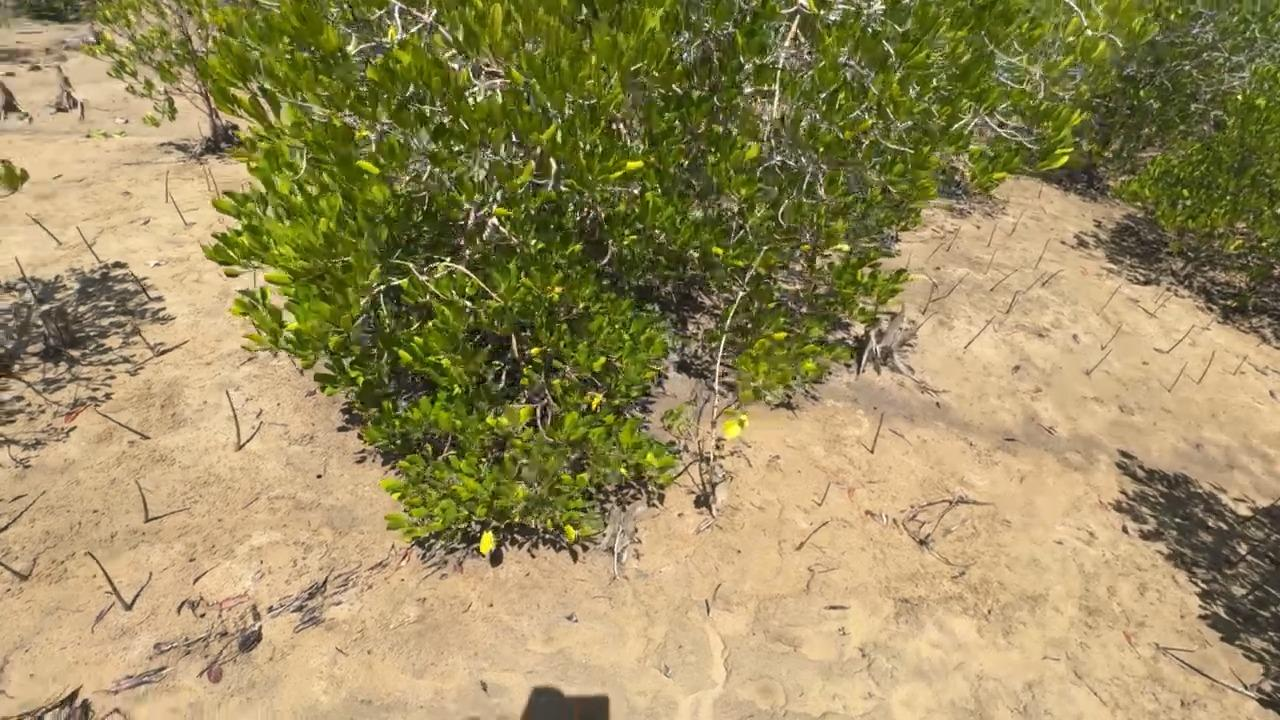Tree: (83, 550, 132, 611), (922, 271, 971, 315), (1, 488, 47, 534), (1229, 535, 1272, 567), (14, 254, 42, 303), (24, 211, 64, 244), (964, 314, 998, 350), (795, 521, 830, 551), (75, 226, 103, 263), (225, 389, 241, 452), (1240, 571, 1274, 599), (1166, 324, 1196, 354), (1097, 283, 1124, 316), (167, 192, 190, 225), (1087, 348, 1115, 375), (1196, 349, 1216, 385), (1100, 321, 1124, 350), (1168, 361, 1189, 393), (988, 269, 1018, 291), (134, 479, 149, 522), (130, 271, 152, 300), (1023, 270, 1048, 295), (1033, 237, 1052, 268), (870, 412, 884, 454), (0, 561, 27, 582), (1150, 295, 1173, 319), (1009, 208, 1028, 236), (1228, 664, 1248, 689), (916, 311, 939, 331), (946, 225, 963, 252), (1041, 269, 1065, 288), (924, 242, 946, 261), (984, 248, 1000, 274), (1237, 507, 1261, 524), (1154, 644, 1197, 653), (1232, 354, 1249, 376), (817, 481, 831, 507), (208, 168, 220, 196), (1005, 290, 1019, 314), (1153, 287, 1169, 303), (987, 222, 997, 247), (1198, 319, 1213, 335), (202, 163, 210, 191), (712, 583, 723, 600), (906, 249, 913, 268), (165, 170, 169, 203), (79, 101, 85, 121), (1038, 181, 1044, 199), (704, 599, 710, 616), (1269, 496, 1279, 505), (197, 121, 202, 137), (1257, 338, 1267, 346), (253, 271, 257, 288)
